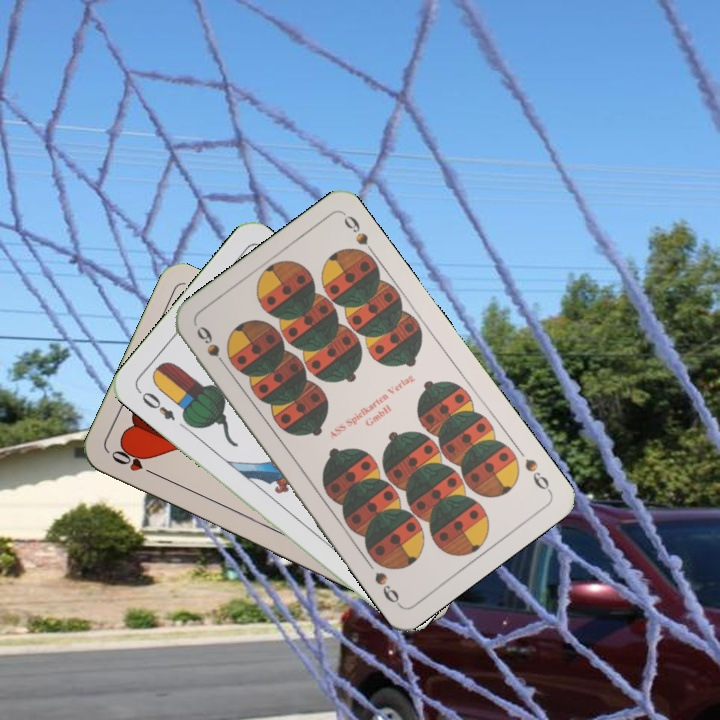EO: (134, 386, 178, 423)
HO: (106, 446, 161, 480)
S9: (192, 321, 232, 373), (520, 454, 554, 496)
